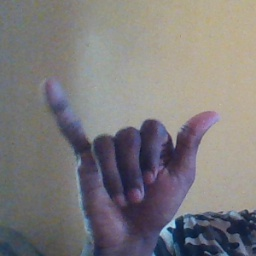J: (38, 76, 223, 242)
